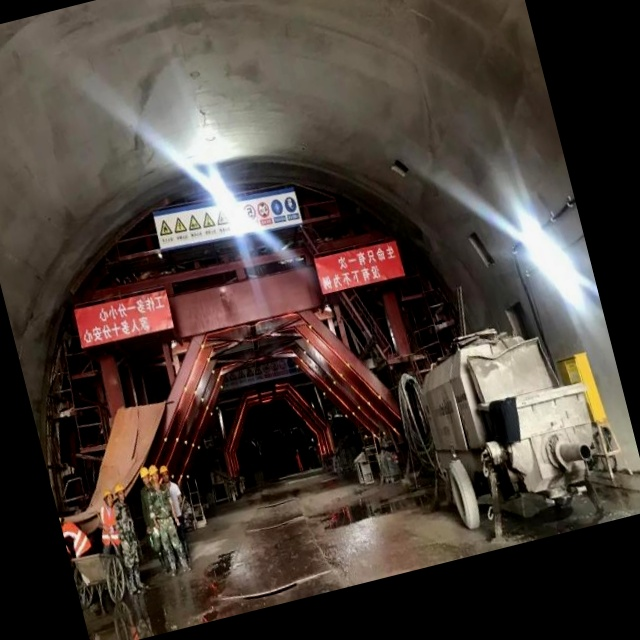Con_Chaleco: (60, 517, 93, 560), (94, 506, 124, 549)
Sin_Chaleco: (145, 482, 174, 523)
